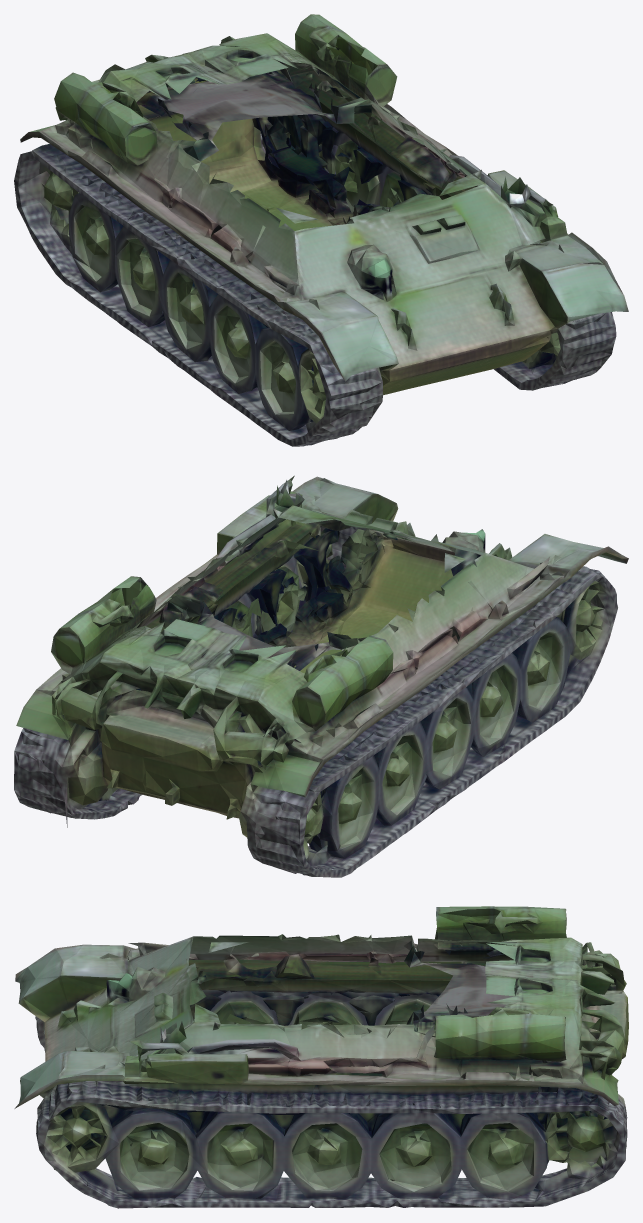
File: t34_85_hull.obj
3 views of the same model, one above another, from view 1: azimuth 30°, elevation 25°; view 2: azimuth 150°, elevation 25°; view 3: azimuth 270°, elevation 25° (orthographic). The views are drawn at different scales.
Parts seen in each view (by area): view 1: t34_85_hull; view 2: t34_85_hull; view 3: t34_85_hull.
Part boxes in pixels (x1,y1,x2,y2): t34_85_hull: (14,14,628,446); t34_85_hull: (14,475,628,877); t34_85_hull: (14,906,628,1208).
Bounding box in the file's own units: 3.06 × 2.02 × 6.02.
Materials: 1 (1 with a texture image).
